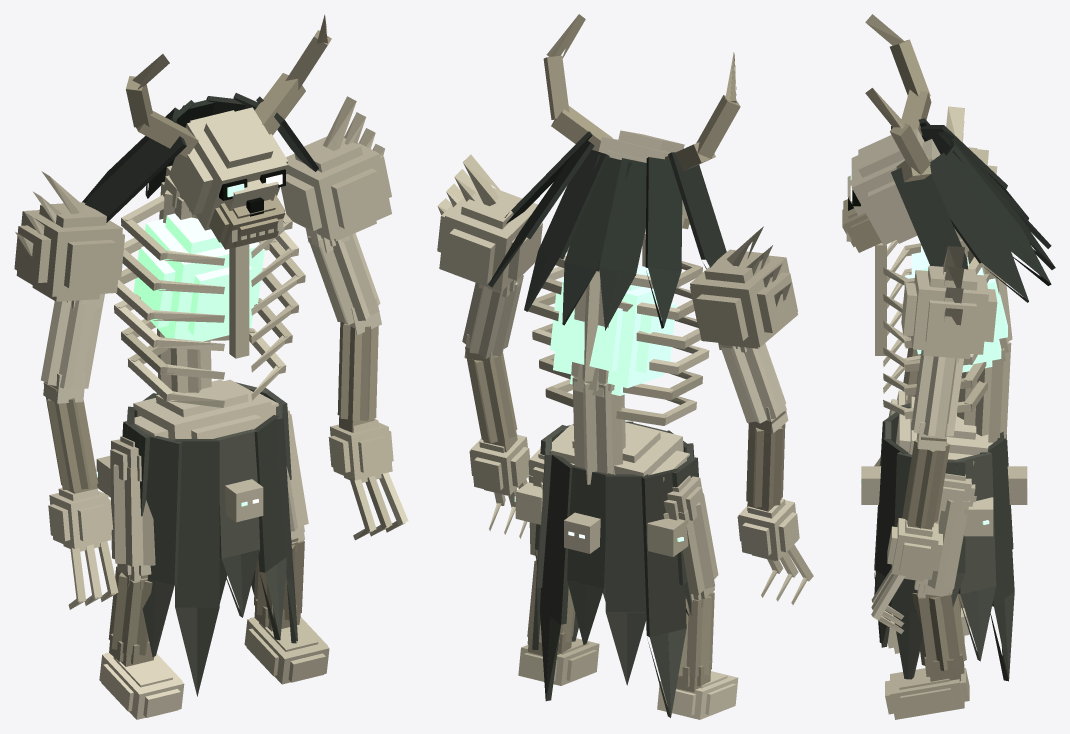
3 views of the same model, side by side, from view 1: azimuth 30°, elevation 25°; view 2: azimuth 150°, elevation 25°; view 3: azimuth 270°, elevation 25° (orthographic). The views are drawn at different scales.
Visible parts, largest first — view 1: BoneMatron; view 2: BoneMatron; view 3: BoneMatron.
Boxes of the visible parts, <box> form: BoneMatron: <box>14,14,408,719</box>; BoneMatron: <box>437,14,813,719</box>; BoneMatron: <box>842,14,1055,719</box>.
Size of the model in its own units: 0.893 by 1.59 by 0.49.
